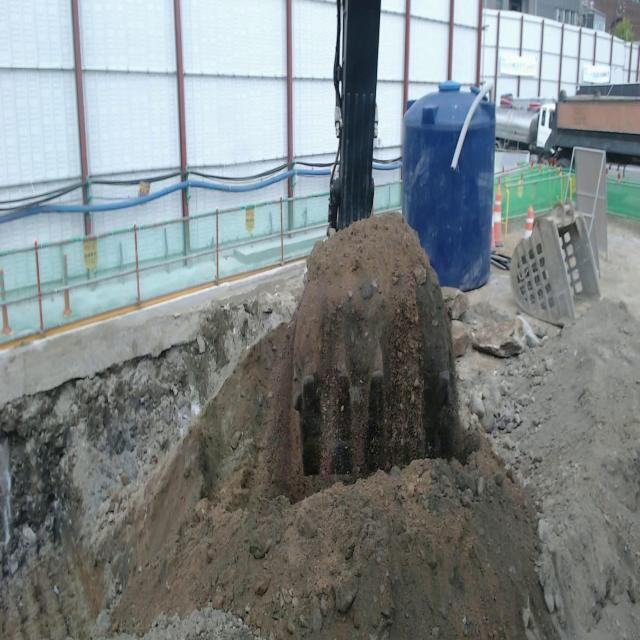cement: (0, 260, 303, 409)
red-sand: (0, 214, 640, 639)
stone: (470, 315, 525, 357), (443, 288, 469, 319), (451, 320, 470, 357)
